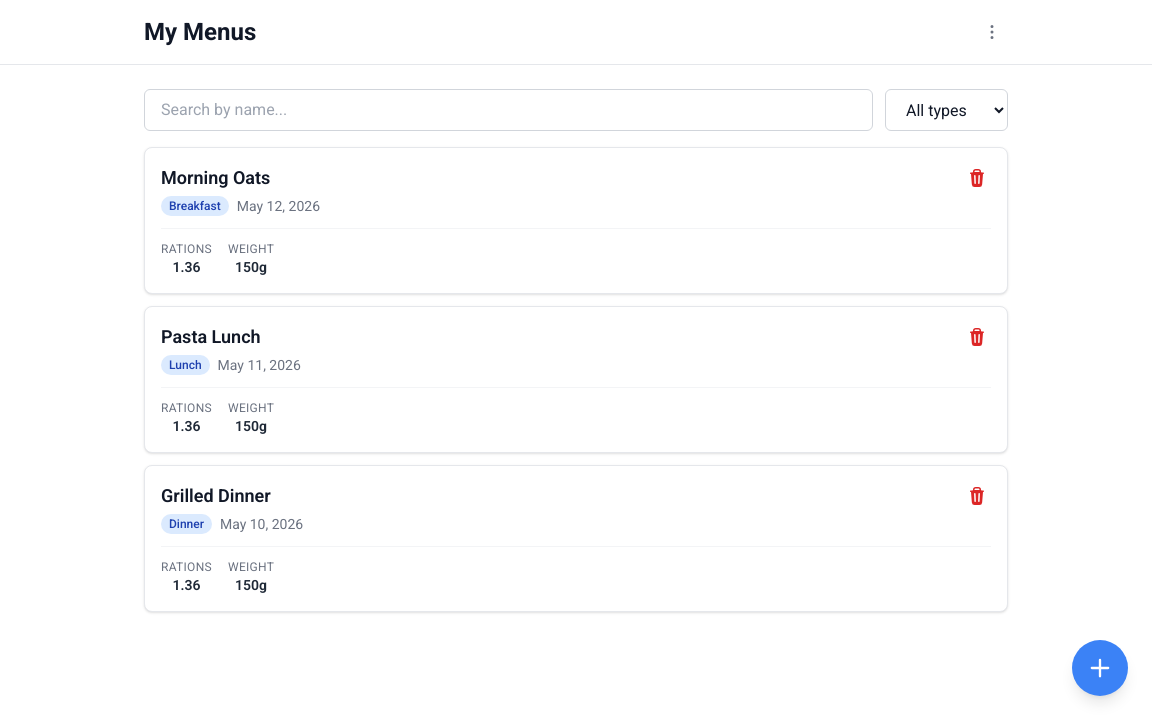
Test case: HomePage — name filter (T018) › shows no-results message when filter matches nothing
Step 1. Type "zzz-nothing" into the field with placeholder "Search by name..." → (508, 110), box x1=144 y1=89 x2=873 y2=131
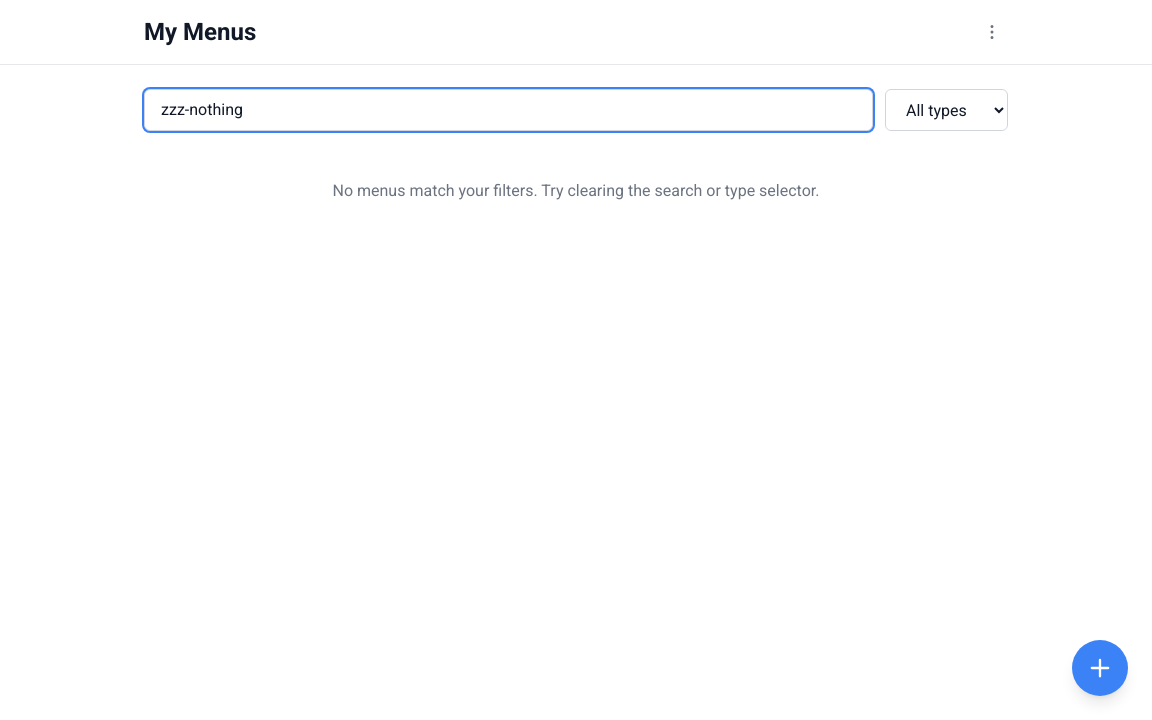
expect the text "No menus match" is shown: met, box x1=332 y1=181 x2=820 y2=200
